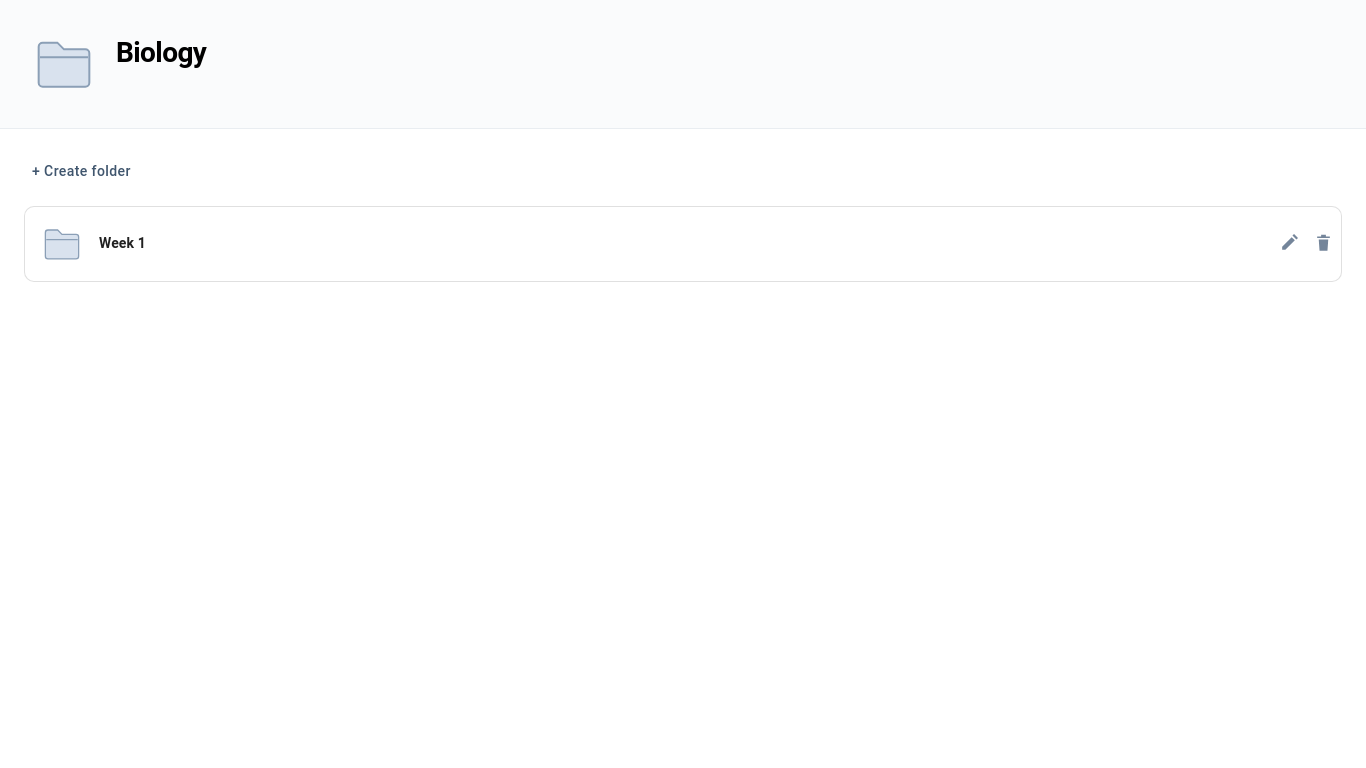
keeps permission failures in the dialog without logging out
Click the button named "Delete folder Week 1" at (1324, 244), box [1306,226,1341,261]
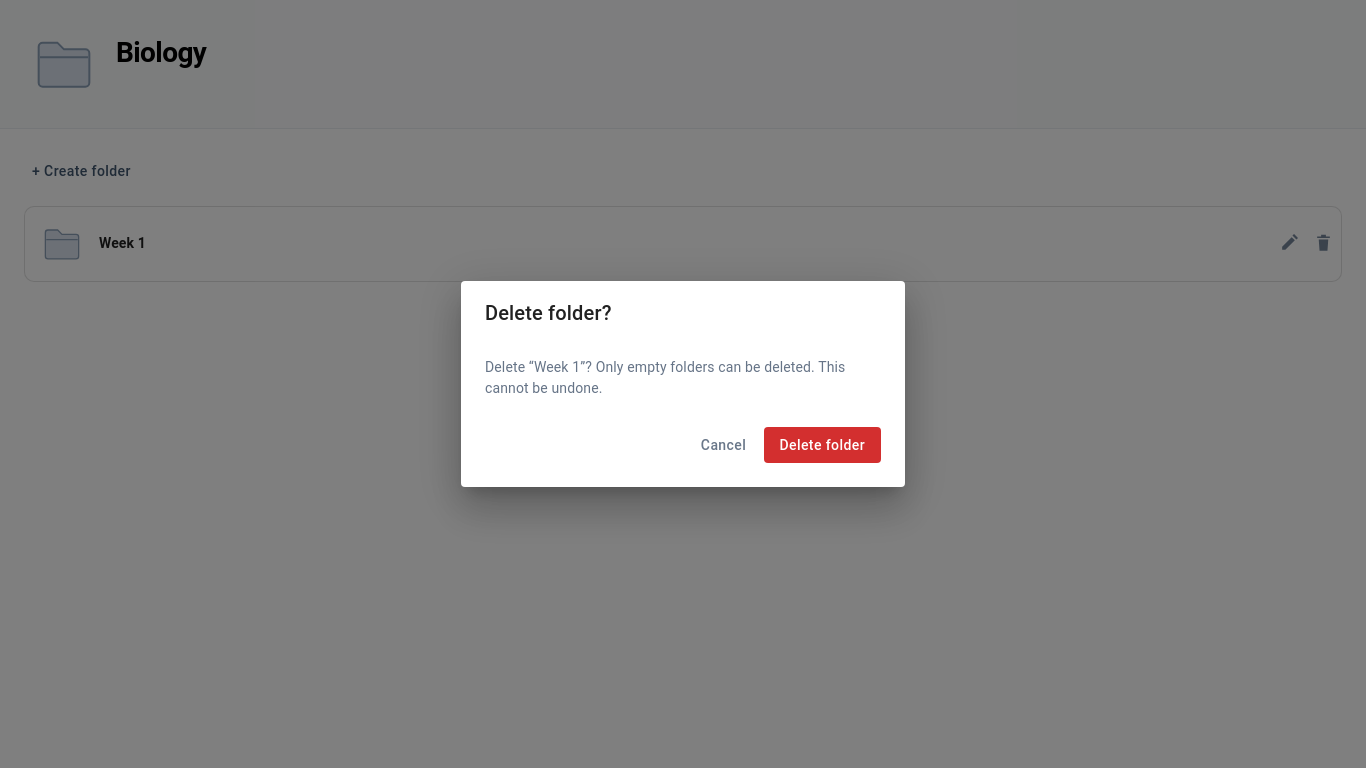
Click the button "Delete folder" at (822, 445), box [764,427,881,463]
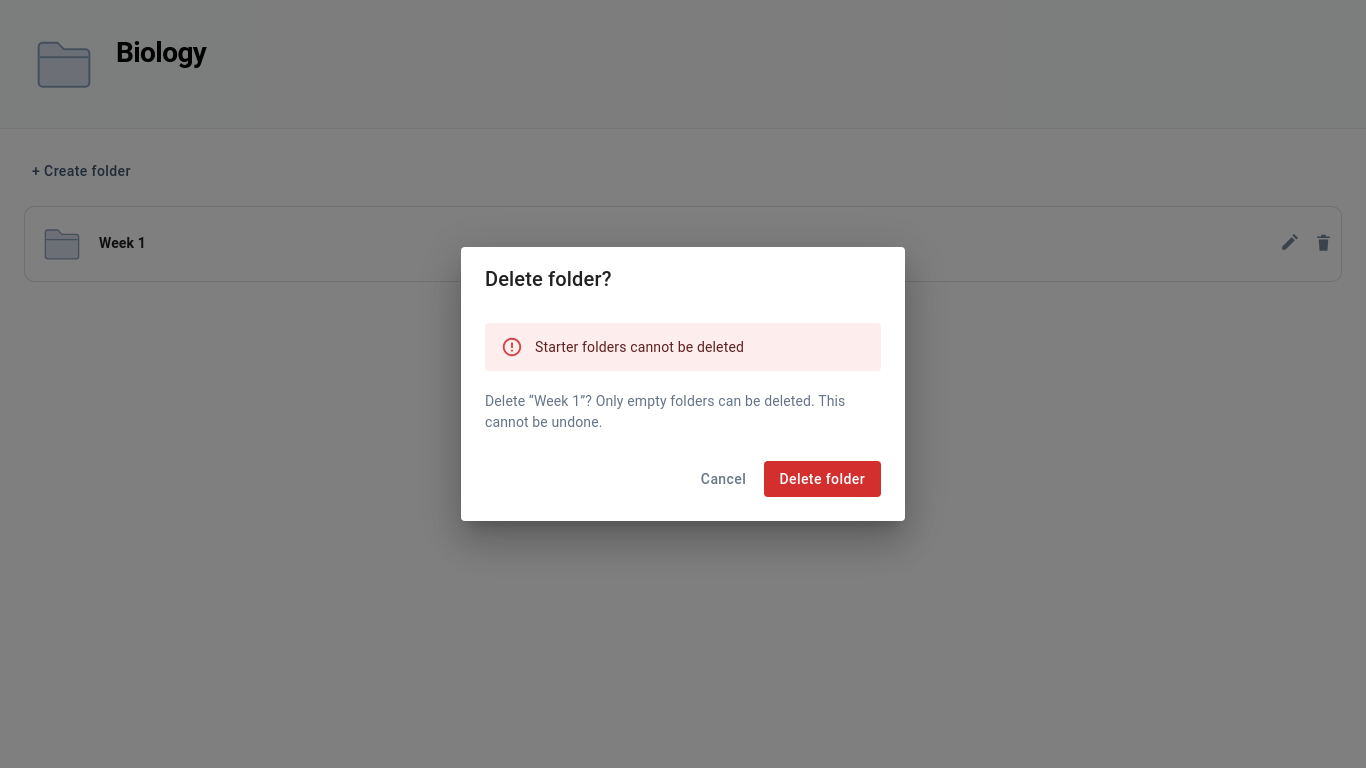
Expected: the message reads "Starter folders cannot be deleted", [535,339,744,355]
